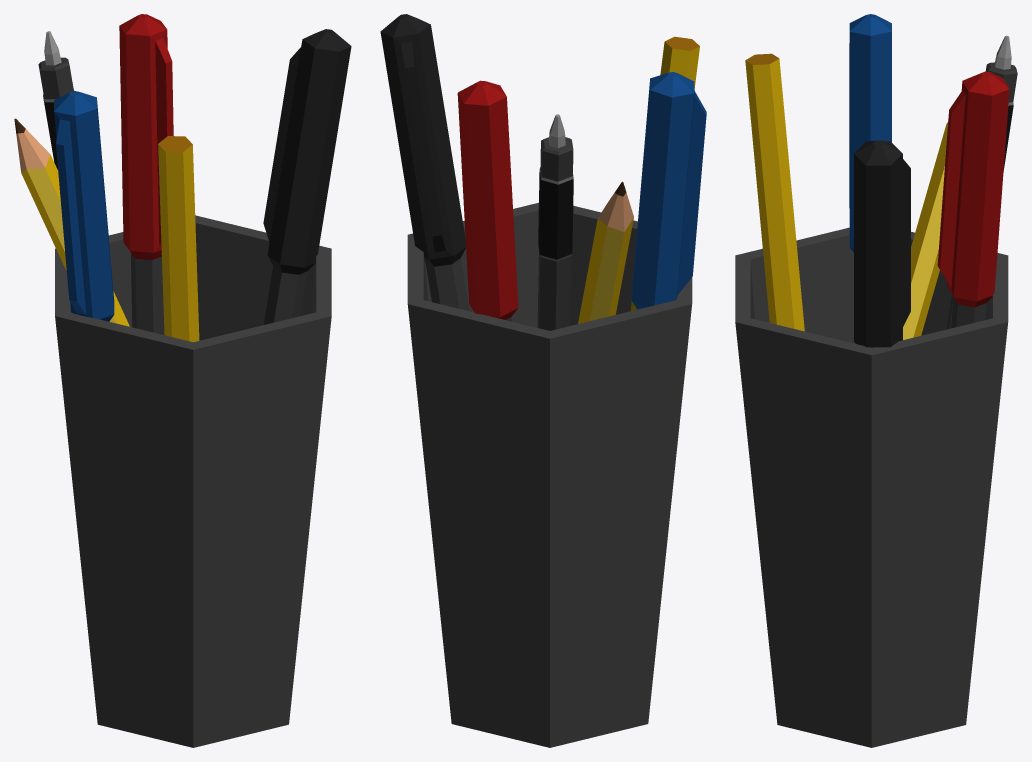
The model's file is PenHolderV1Filled.fbx.
3 renders of one model, left to right at view 1: azimuth 30°, elevation 25°; view 2: azimuth 150°, elevation 25°; view 3: azimuth 270°, elevation 25°, orthographic. The views are drawn at different scales.
Visible parts, largest first — view 1: PenHolderV1Filled; view 2: PenHolderV1Filled; view 3: PenHolderV1Filled.
Part boxes in pixels (<box>): PenHolderV1Filled: <box>14,14,351,747</box>; PenHolderV1Filled: <box>380,14,706,747</box>; PenHolderV1Filled: <box>735,14,1017,747</box>.
Size of the model in its own units: 5.29 by 10.8 by 4.37.
